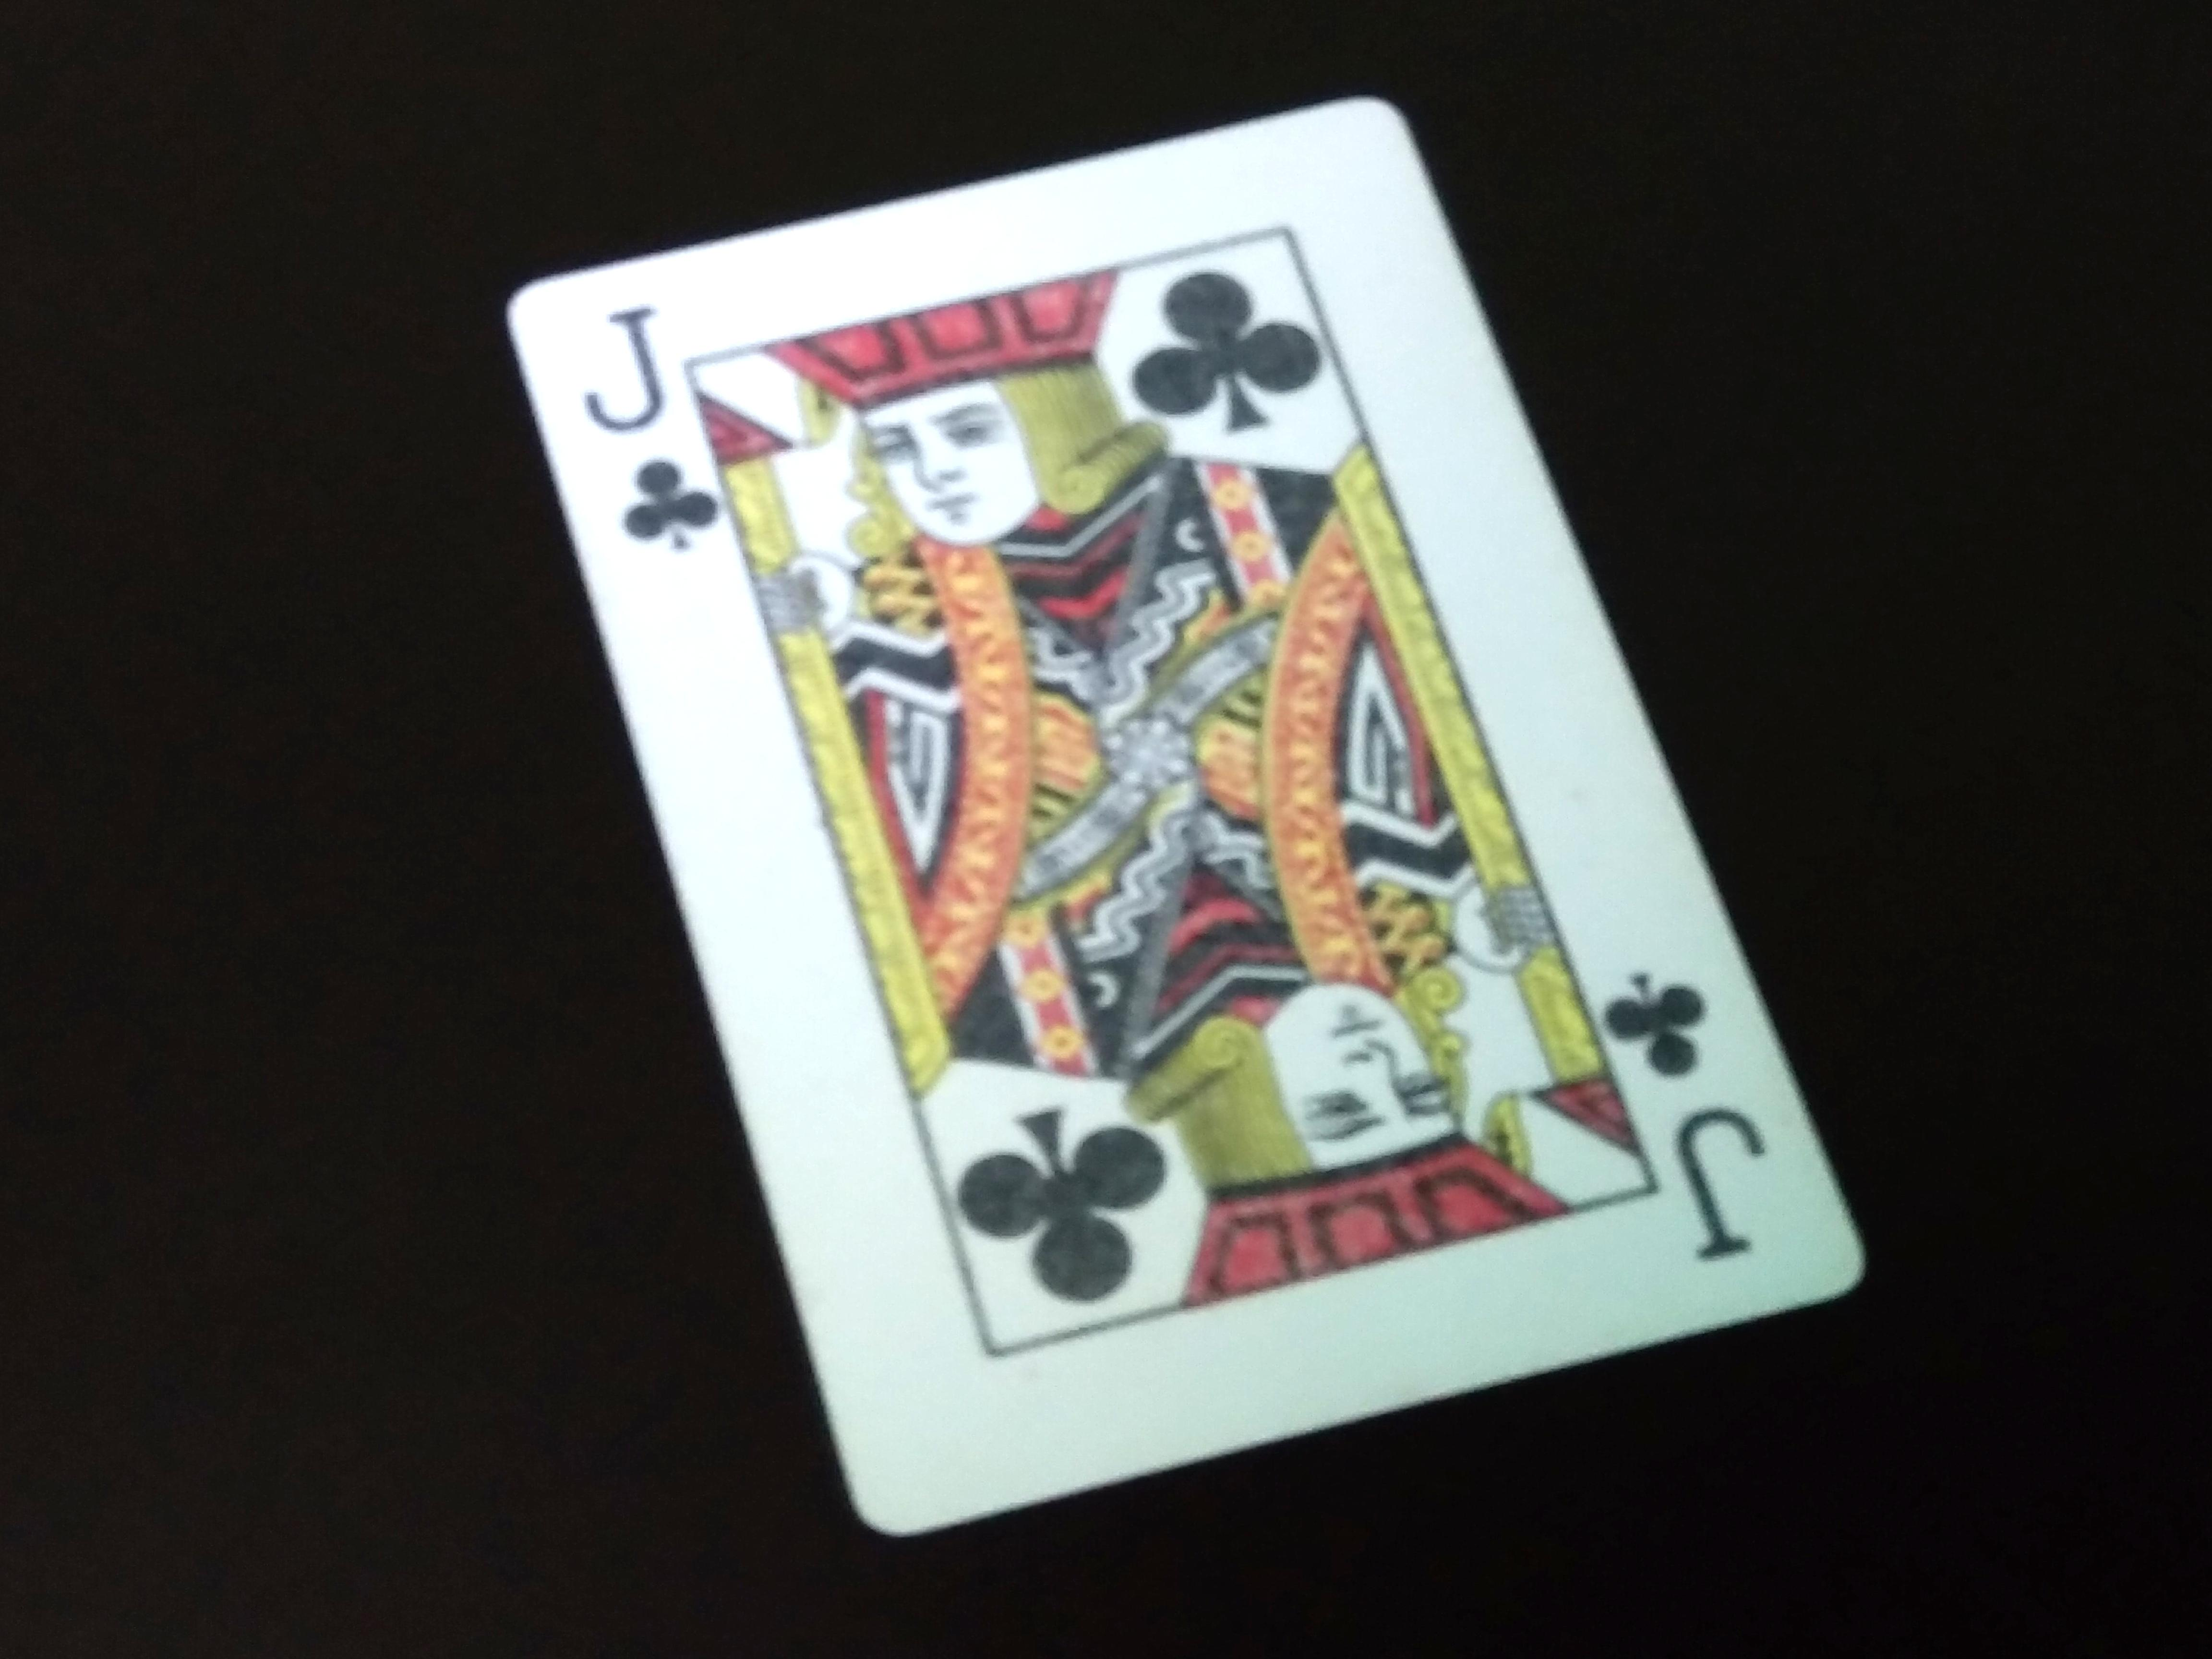JC: (580, 286, 718, 596)
